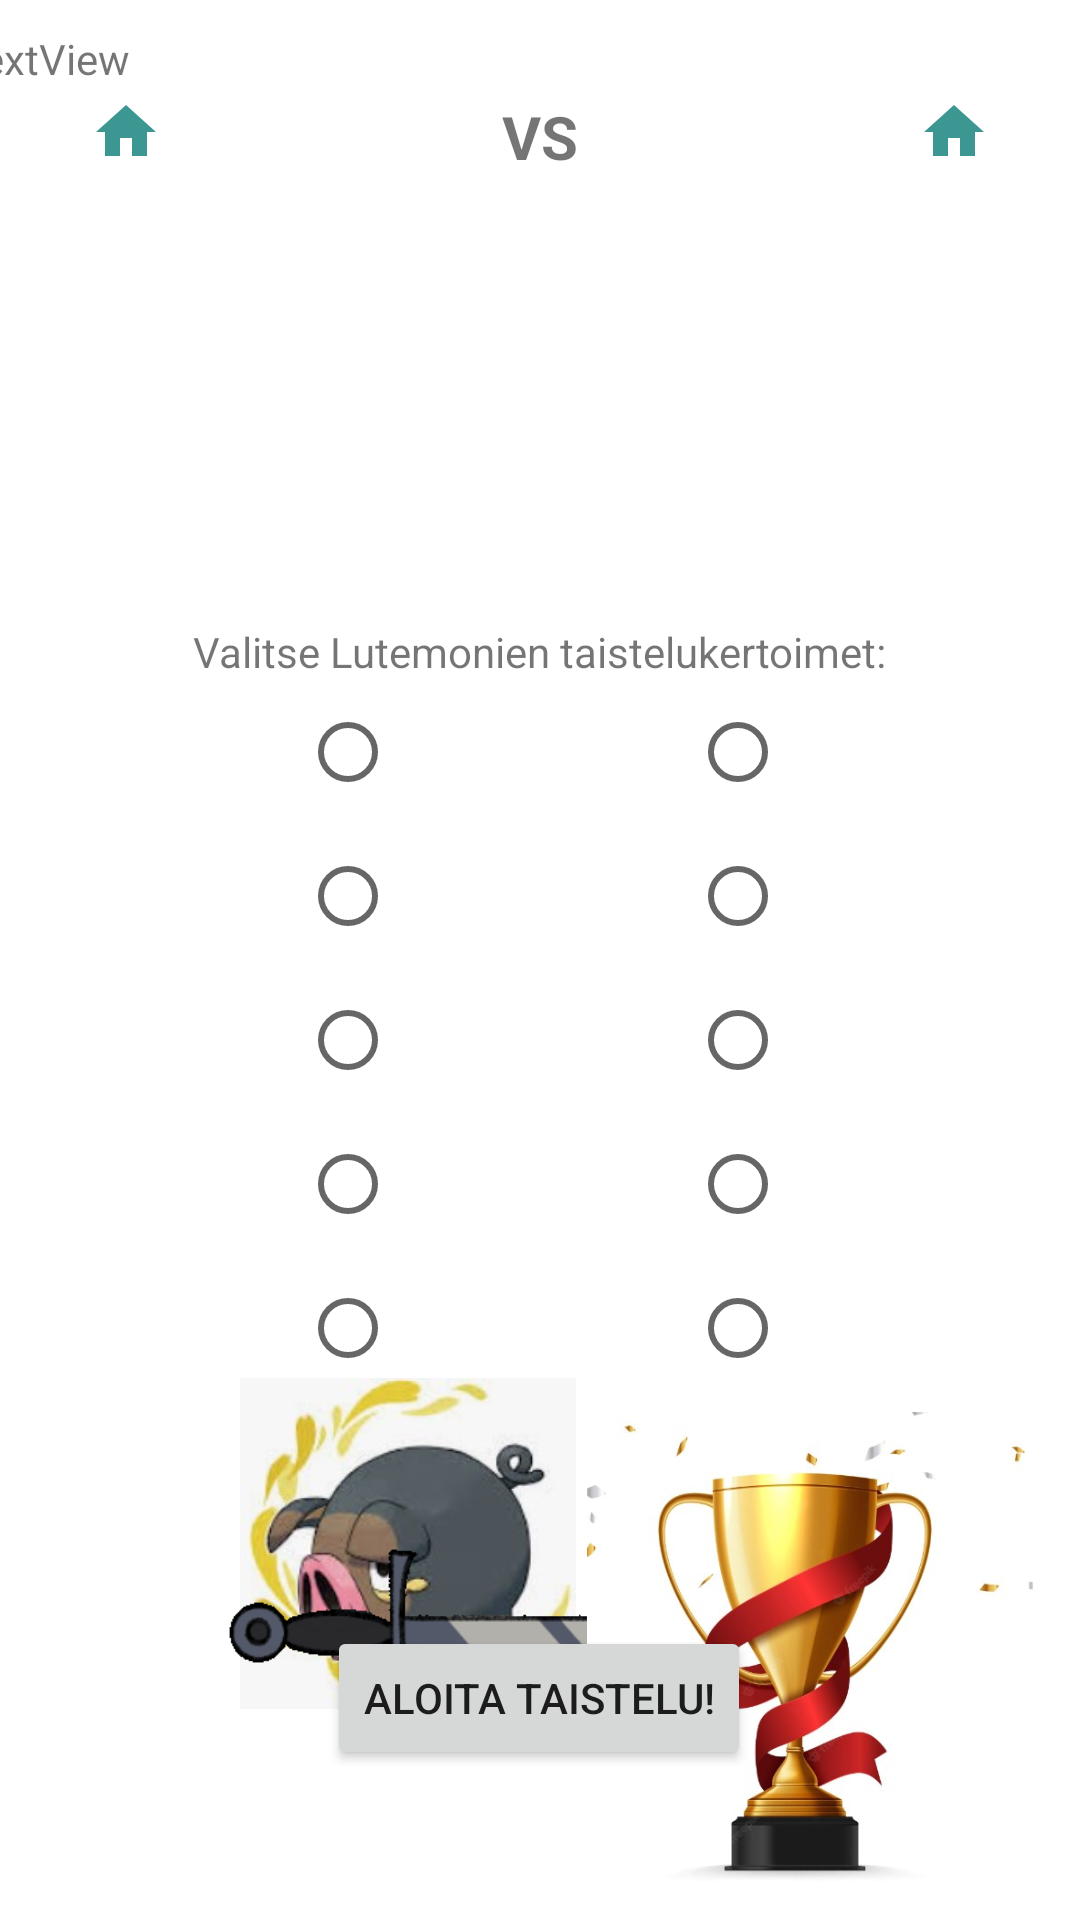

Icons on this 1080px×1920px Android screen, each with the point to tap as [x,y]:
home: [126,130], [954,130]
